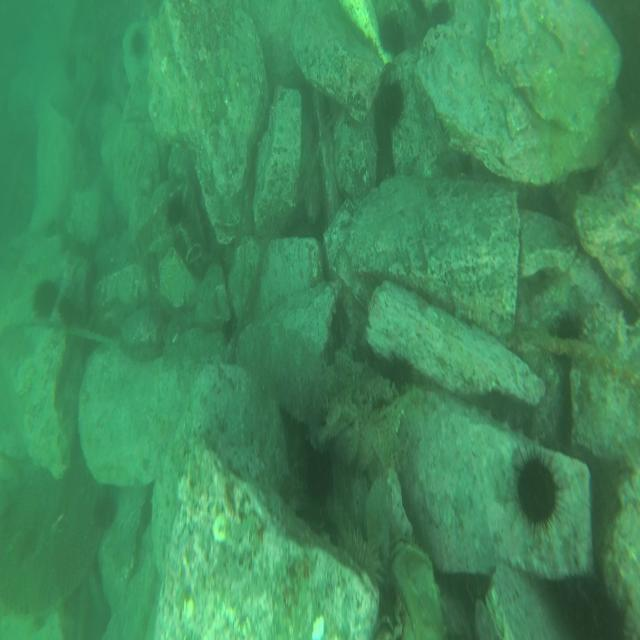echinus: (506, 435, 571, 539), (337, 516, 379, 580), (376, 72, 406, 137), (32, 272, 62, 321)
